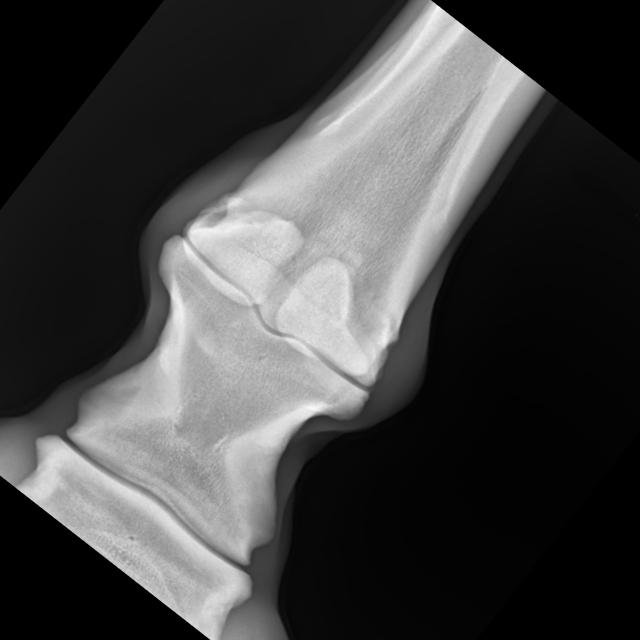joint-ht8A: (67, 102, 517, 528)
